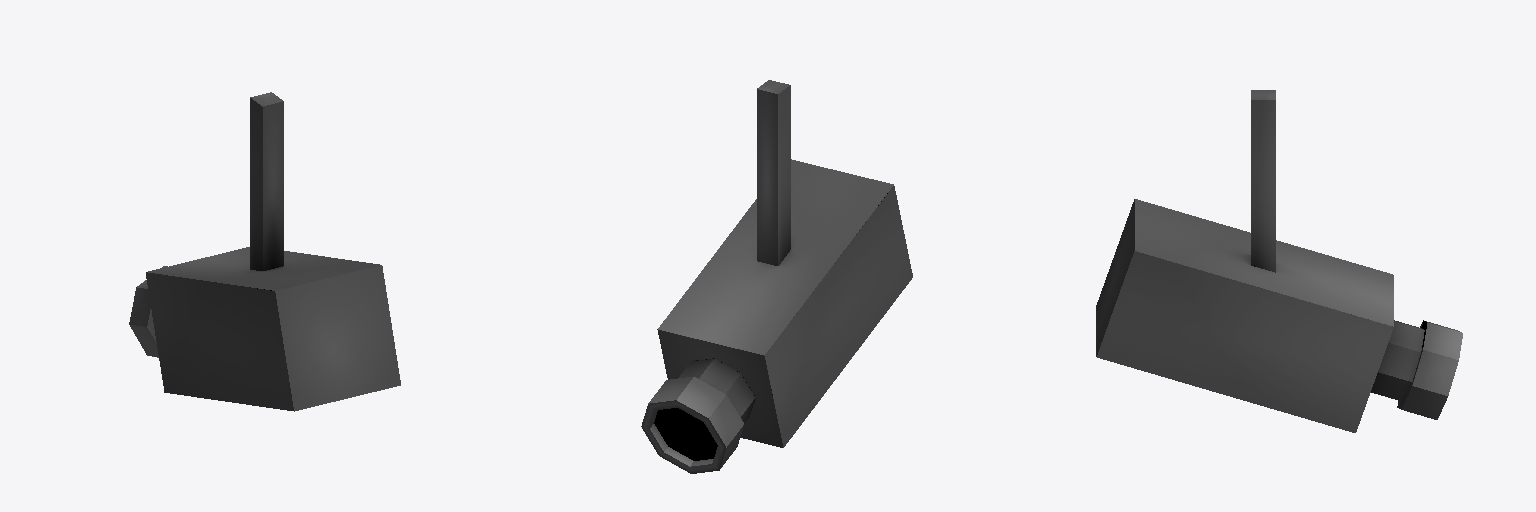
3 views of the same model, side by side, from view 1: azimuth 30°, elevation 25°; view 2: azimuth 150°, elevation 25°; view 3: azimuth 270°, elevation 25° (orthographic).
Parts seen in each view (by area): view 1: Cube; view 2: Cube; view 3: Cube.
Part boxes in pixels (left/top/right/bottom): Cube: left=129, top=92, right=400, bottom=411; Cube: left=641, top=80, right=912, bottom=473; Cube: left=1096, top=90, right=1462, bottom=432.
Size of the model in its own units: 0.1957 by 0.5665 by 0.5809.
2 materials, 1 textured.